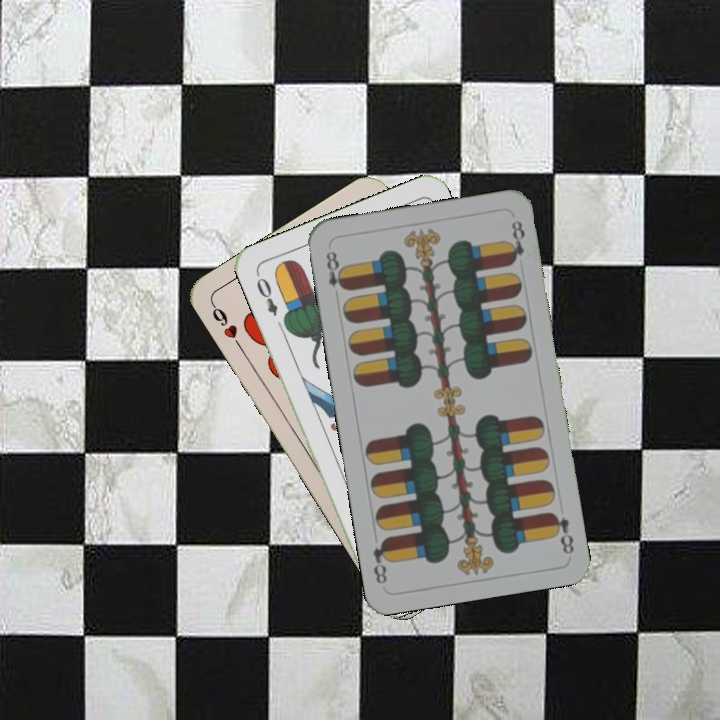E8: (547, 508, 577, 558), (322, 246, 349, 293)
EO: (252, 269, 281, 319)
H9: (207, 299, 245, 352)
